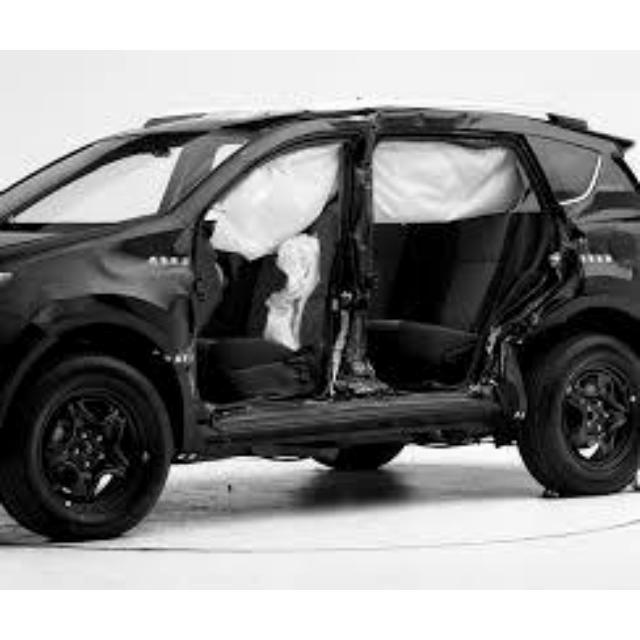doorouter-dent: (365, 110, 545, 388), (158, 137, 333, 420)
fender-dent: (22, 232, 171, 321)
